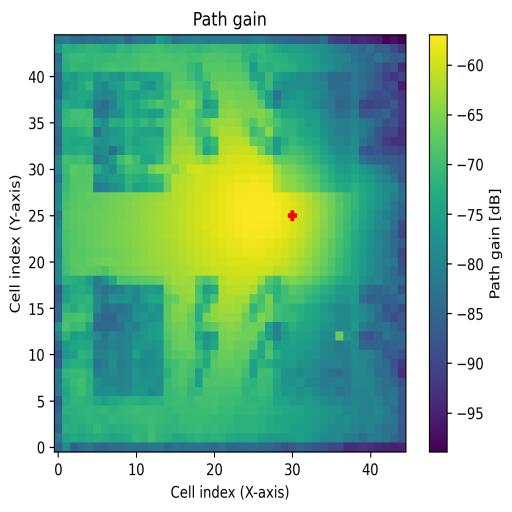Concrete: (274, 72, 352, 192)
Glass: (93, 72, 172, 194)
Metal: (273, 284, 352, 398)
Wood: (95, 285, 163, 397)
